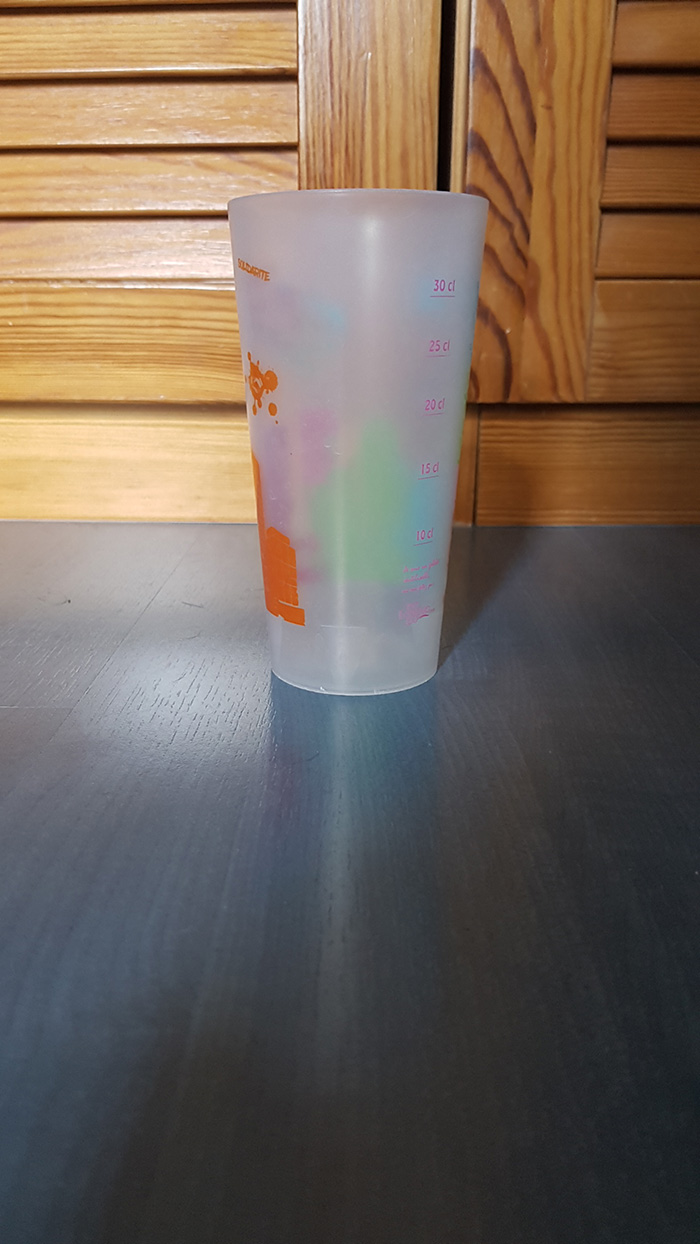ecocup: (225, 186, 489, 696)
